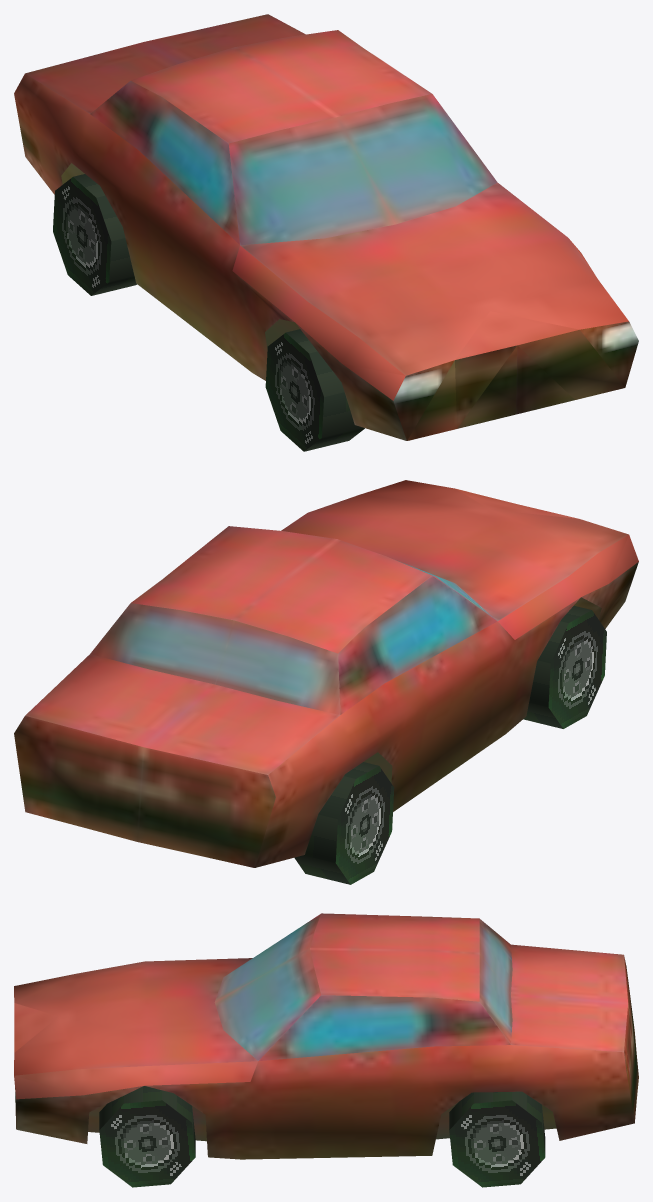
File: car.glb
3 renders of one model, top to bottom at view 1: azimuth 30°, elevation 25°; view 2: azimuth 150°, elevation 25°; view 3: azimuth 270°, elevation 25°, orthographic. The views are drawn at different scales.
Visible parts, largest first — view 1: MajestySR7, MajestySR7_Wheel_FR, MajestySR7_Wheel_RR; view 2: MajestySR7, MajestySR7_Wheel_RR, MajestySR7_Wheel_FR; view 3: MajestySR7, MajestySR7_Wheel_FL, MajestySR7_Wheel_RL.
Boxes of the visible parts, x1,y1,x2,y2 form: MajestySR7: [14, 14, 638, 440]; MajestySR7_Wheel_FR: [265, 329, 364, 451]; MajestySR7_Wheel_RR: [53, 174, 137, 295]; MajestySR7: [14, 480, 638, 867]; MajestySR7_Wheel_RR: [294, 762, 394, 884]; MajestySR7_Wheel_FR: [523, 605, 606, 728]; MajestySR7: [14, 913, 638, 1159]; MajestySR7_Wheel_FL: [99, 1086, 195, 1187]; MajestySR7_Wheel_RL: [449, 1091, 545, 1187].
Size of the model in its own units: 1.72 by 1.28 by 3.97.
2 materials, 2 textured.
